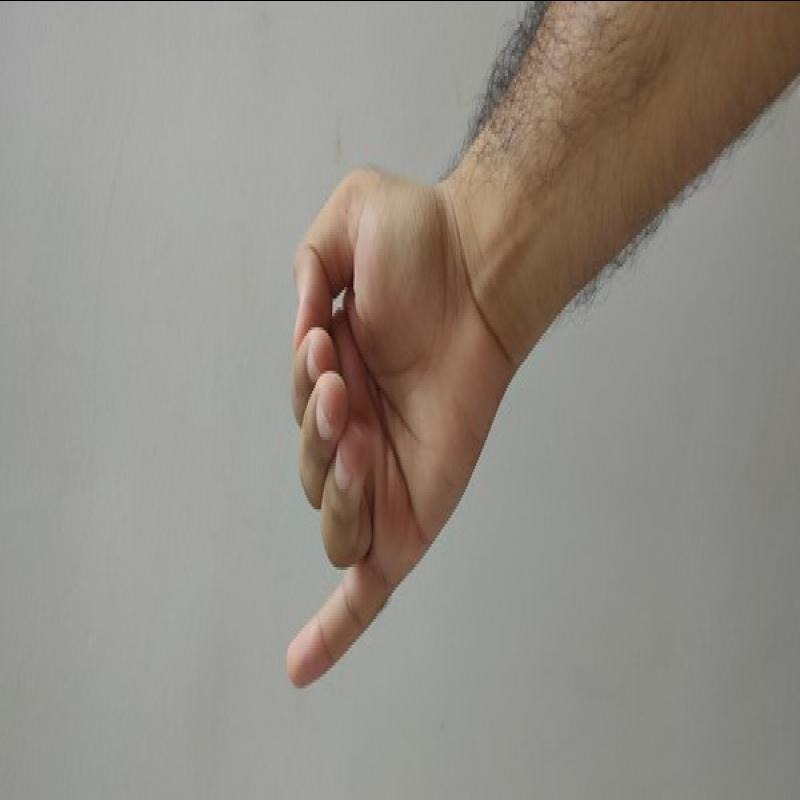Kartharee Mukham: (240, 124, 480, 701)
